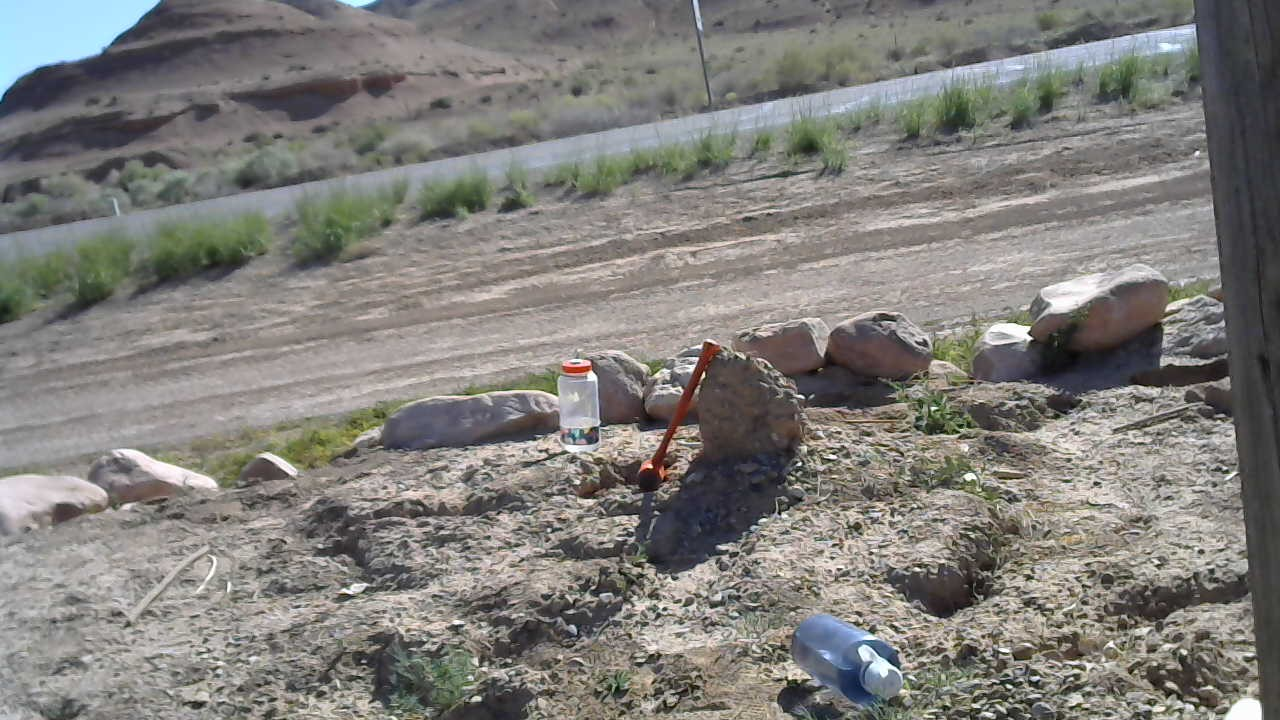bottle: (788, 608, 907, 709), (555, 352, 604, 460)
hammer: (635, 341, 724, 494)
